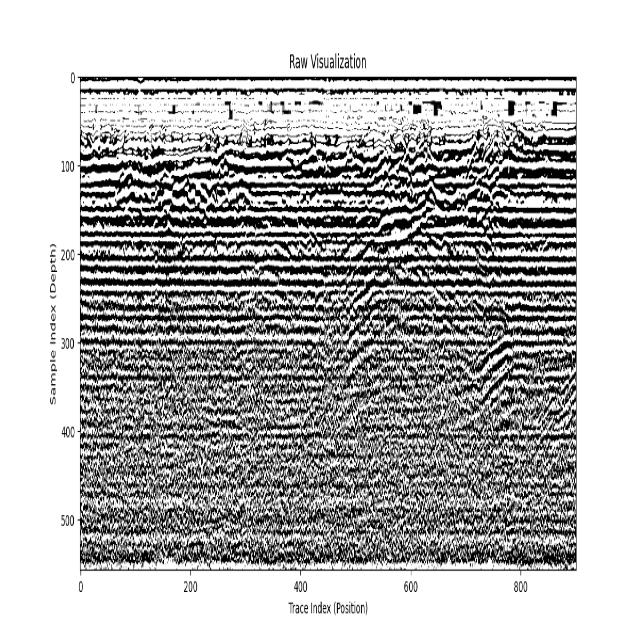anomaly: (342, 214, 426, 428), (468, 325, 518, 435)
